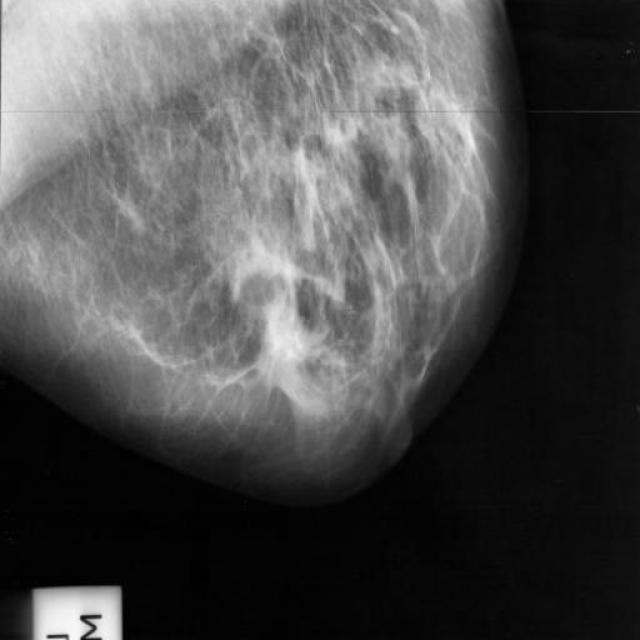cancer: (242, 326, 294, 394)
